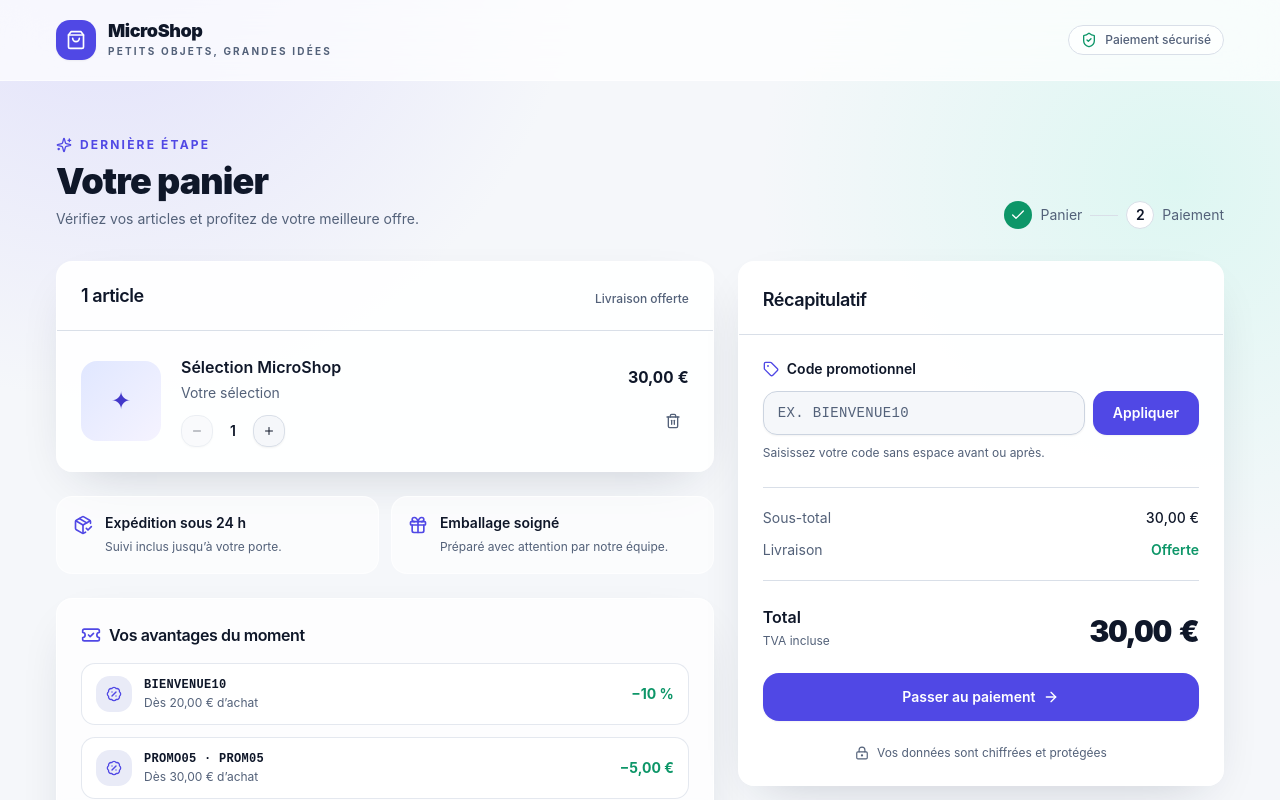
Test case: gestion des codes promotionnels au panier › bloque le total à 0,00 € même si l'API retourne un total négatif
The image size is (1280, 800).
Type "CADEAU40" into the field labelled "Code promotionnel" at (924, 413), box [763,391,1085,435]
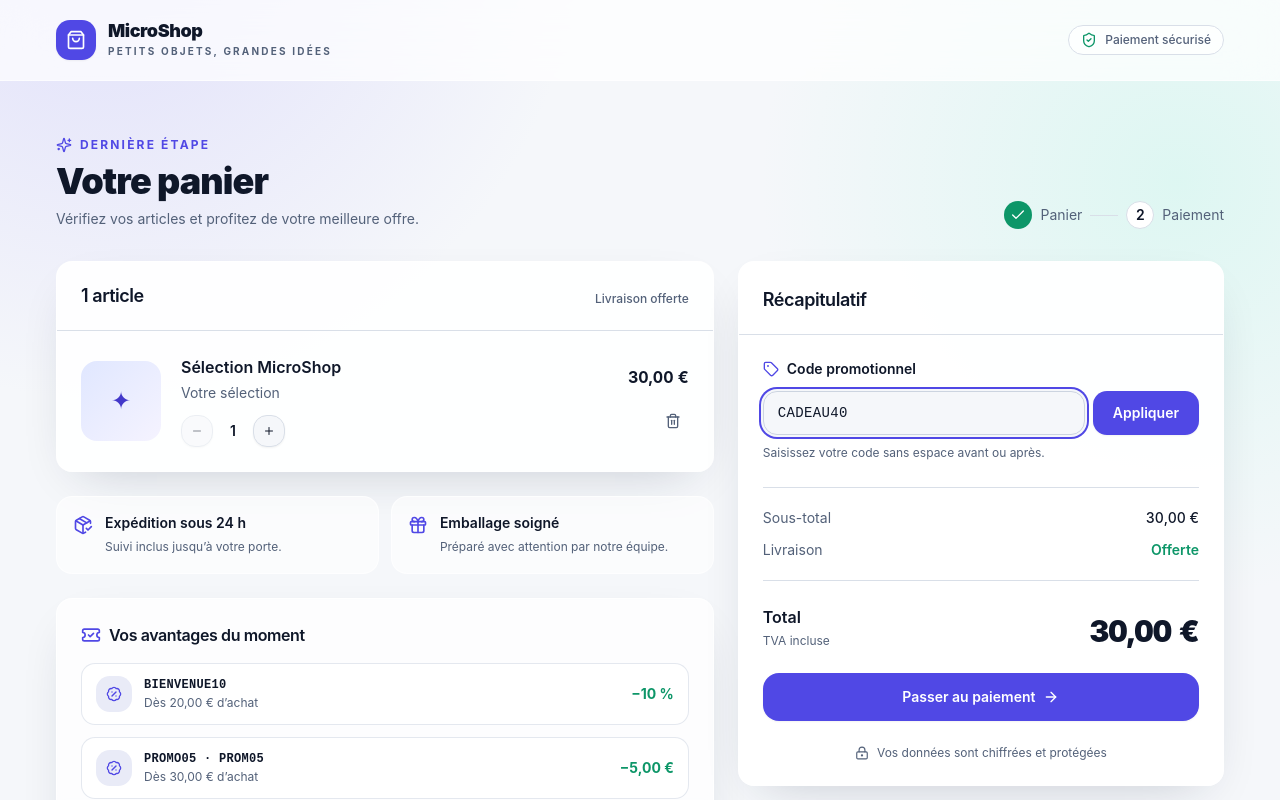
Click the button "Appliquer" at (1146, 413), box [1093,391,1199,435]
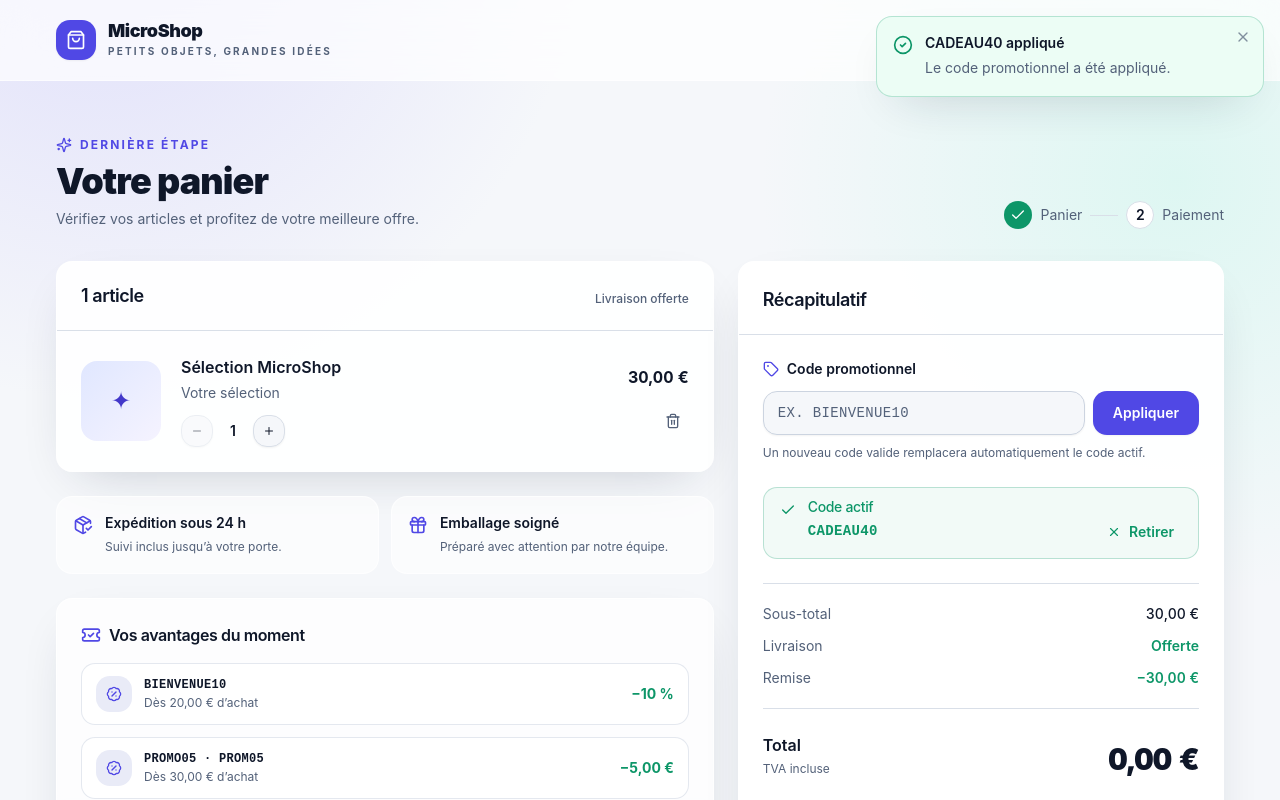
Expected: the text with test id "order-total" reads "0,00 €", [1108,740,1199,776]
Expected: the message with test id "active-promotion" shows "CADEAU40", [808,523,878,539]
Expected: the element with test id "discount-row" reads "Remise −30,00 €", [1146,668,1199,686]
